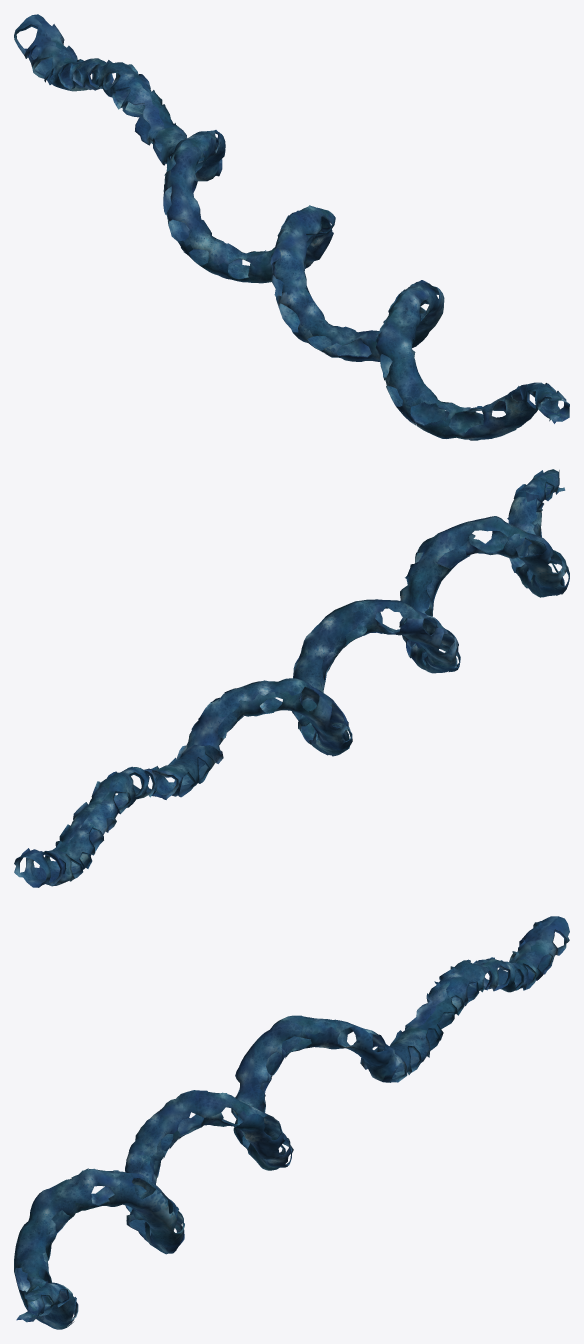
The model's file is stage2.fbx.
The picture shows the model from 3 angles, top to bottom: view 1: azimuth 30°, elevation 25°; view 2: azimuth 150°, elevation 25°; view 3: azimuth 330°, elevation 25°; orthographic projection.
Visible parts, largest first — view 1: stage2; view 2: stage2; view 3: stage2.
Part boxes in pixels (x1,y1,x2,y2): stage2: [14, 14, 569, 440]; stage2: [14, 469, 569, 887]; stage2: [14, 916, 569, 1329].
Bounding box in the file's own units: 138 × 140 × 1170.
